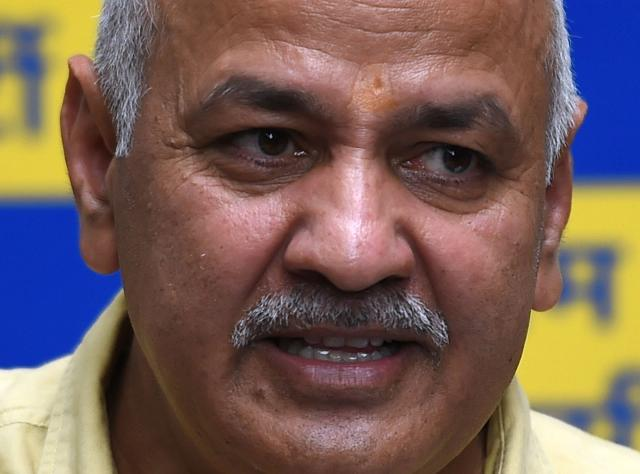crows_feet: (170, 136, 210, 170)
forehead: (268, 35, 348, 61), (369, 18, 433, 42)
frown_line: (334, 134, 368, 154)
gummy_smile: (253, 224, 285, 292), (415, 240, 449, 302)
